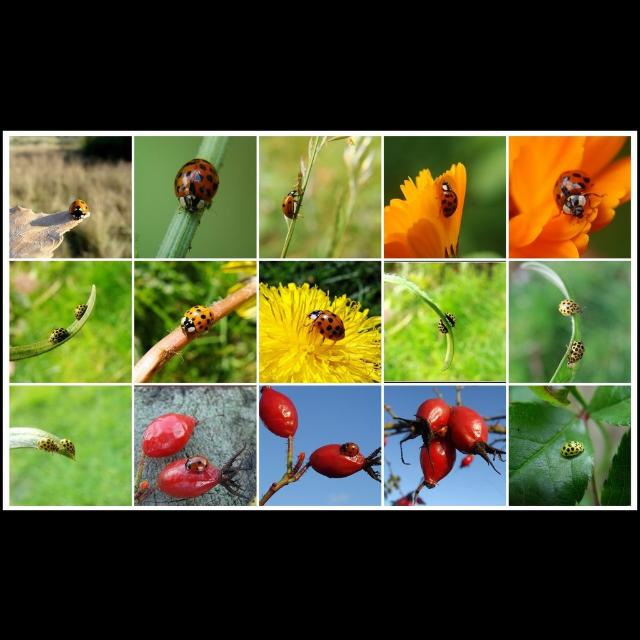Flower: (508, 132, 630, 255), (258, 281, 380, 384), (386, 162, 476, 262)
